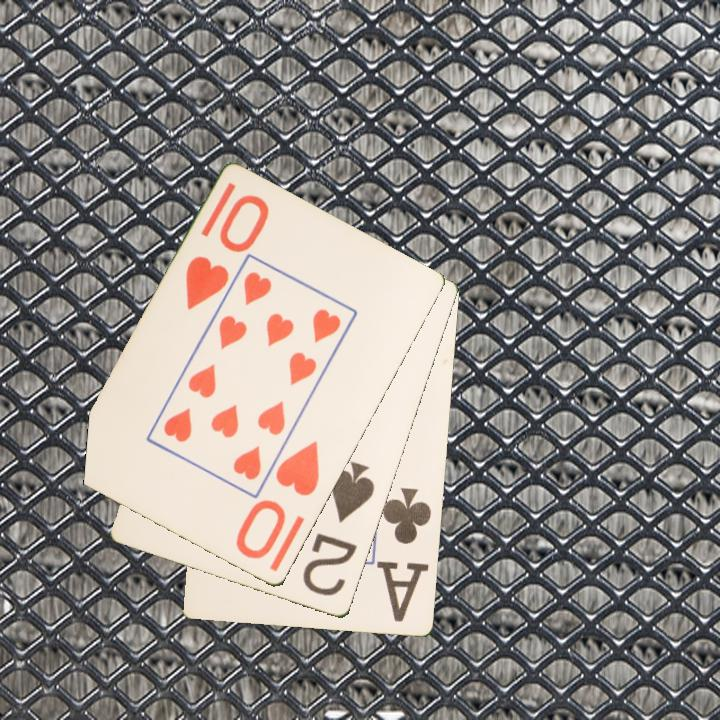10h: (232, 437, 323, 563), (181, 191, 271, 313)
2s: (299, 458, 378, 600)
Ac: (375, 484, 435, 625)
